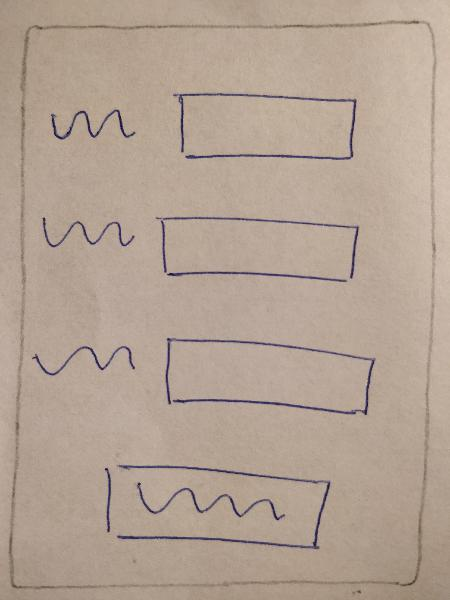text: (24, 330, 142, 383), (38, 207, 137, 257), (47, 99, 138, 150)
text_input: (153, 326, 380, 421), (153, 201, 363, 288), (165, 86, 366, 175)
